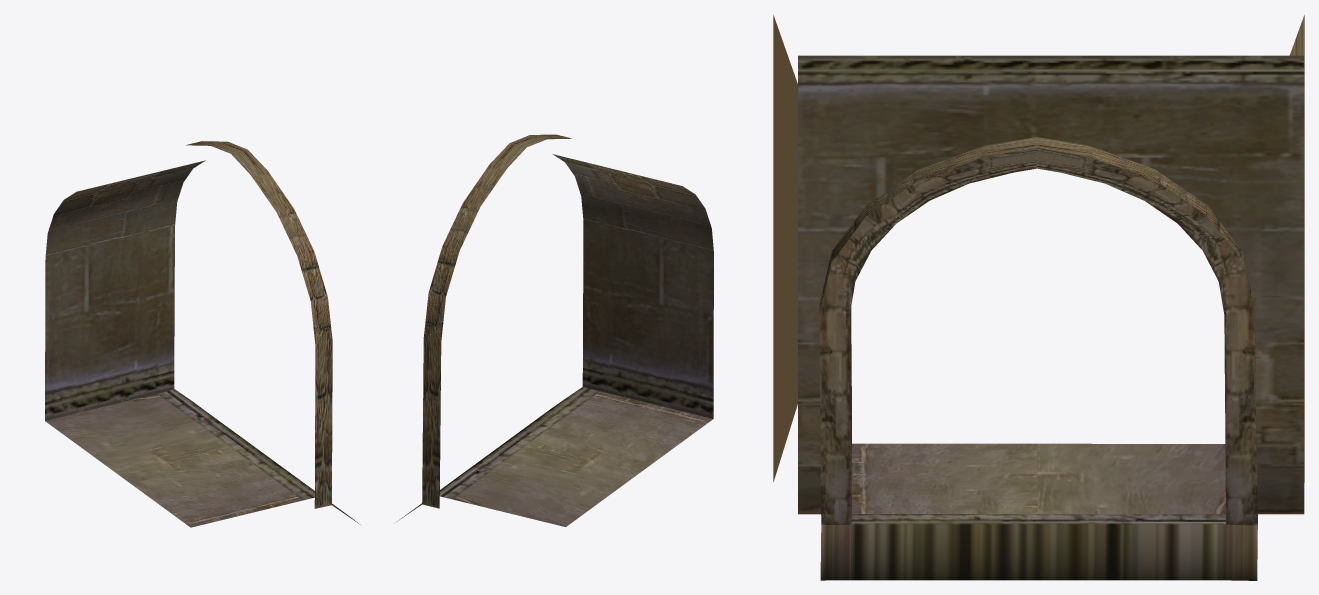
Rendered from M7Z4_Tunnel1A.glb.
The picture shows the model from 3 angles, left to right: view 1: azimuth 30°, elevation 25°; view 2: azimuth 150°, elevation 25°; view 3: azimuth 270°, elevation 25°; orthographic projection. The views are drawn at different scales.
Parts seen in each view (by area): view 1: M7Z4_TUNNEL1A; view 2: M7Z4_TUNNEL1A; view 3: M7Z4_TUNNEL1A.
Boxes of the visible parts, x1,y1,x2,y2 form: M7Z4_TUNNEL1A: [45, 141, 360, 527]; M7Z4_TUNNEL1A: [397, 134, 713, 526]; M7Z4_TUNNEL1A: [773, 15, 1304, 580].
Size of the model in its own units: 1.88 by 4.34 by 4.2.
Materials: 4 (4 with a texture image).
